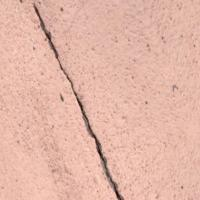crack: (30, 5, 132, 200)
